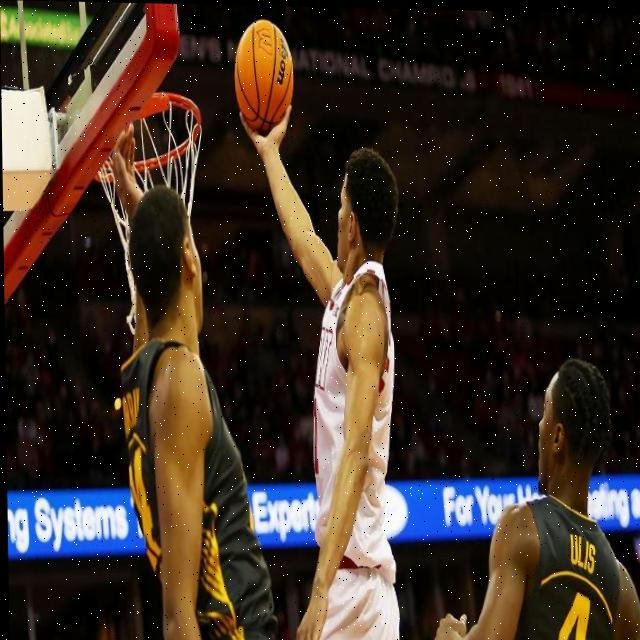Basketball: (234, 20, 294, 132)
hoop: (97, 91, 205, 336)
